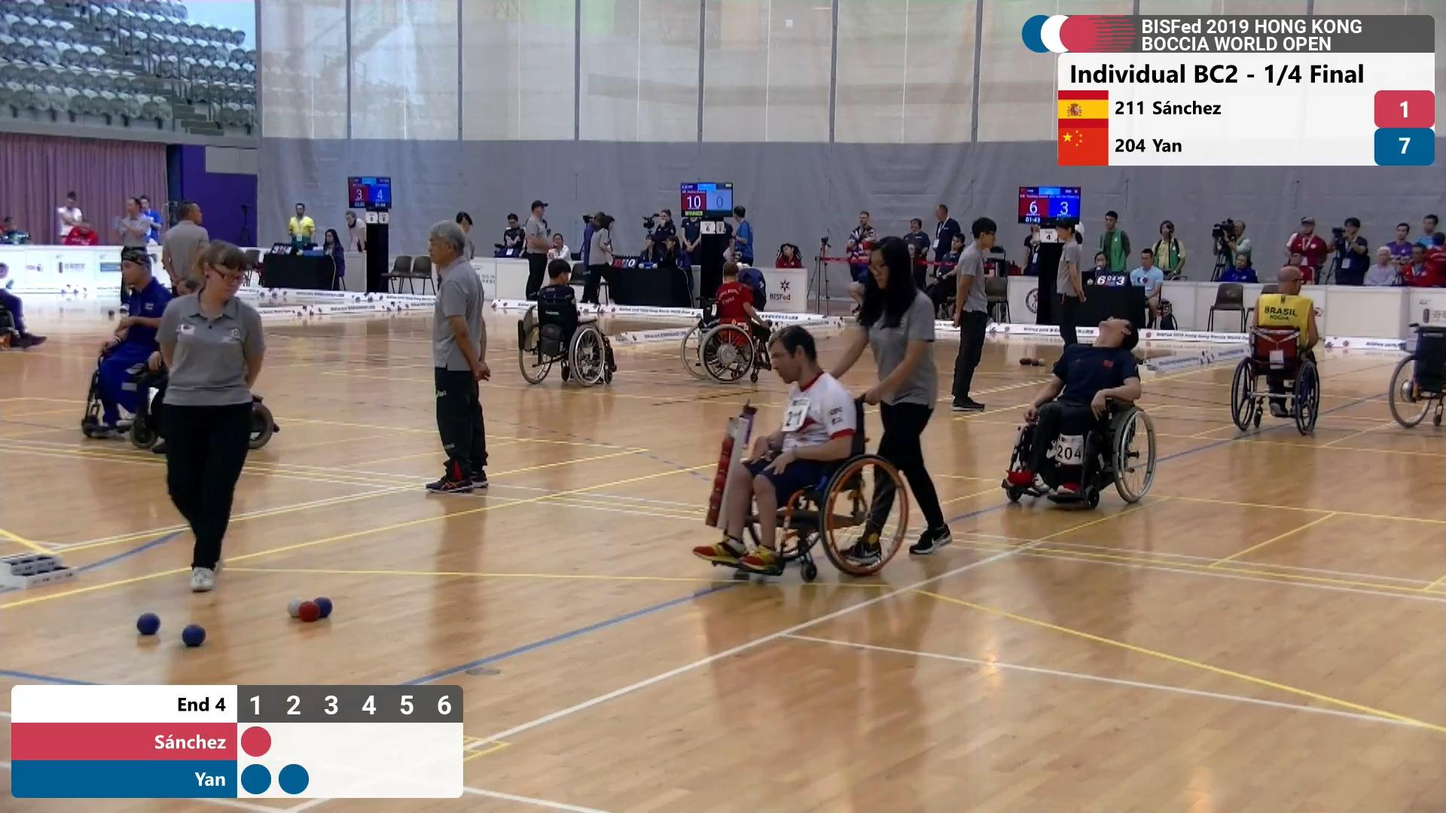blue_ball: (180, 623, 208, 649), (135, 610, 161, 637), (312, 594, 334, 620)
red_ball: (298, 601, 321, 625)
white_ball: (286, 597, 306, 620)
